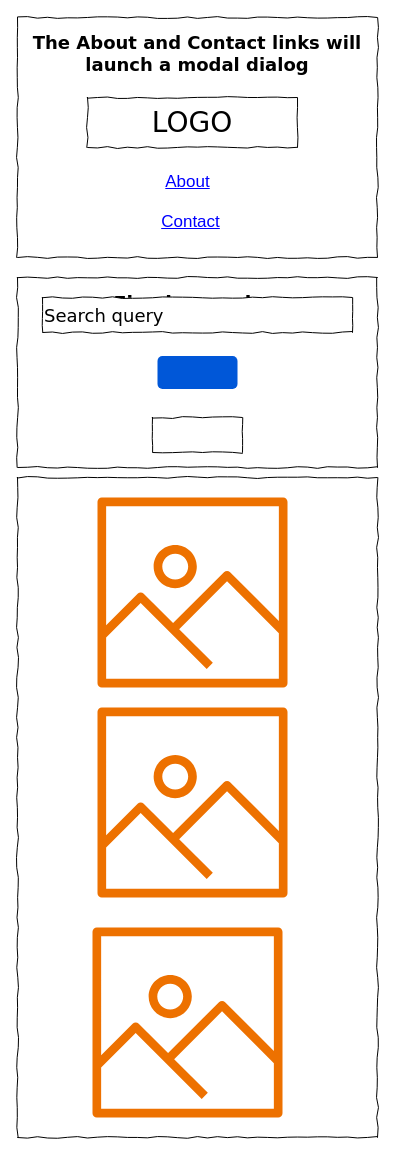
Some shapes in this 395 by 1155 pixel diagram are drawn without their labels. The shapes that lost their labels are listed below. From the top down, each one's centre as x and y in pixels, then its label:
At (197,372): "Submit".
At (197,434): "# of Gifs".
